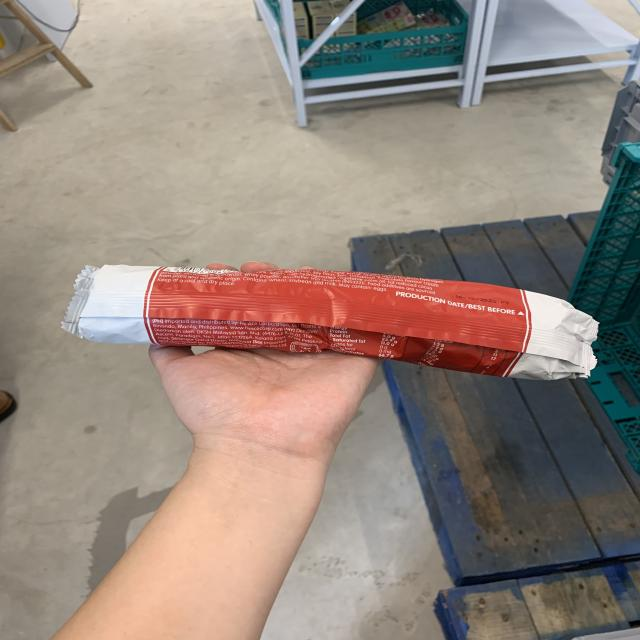object_name: (63, 262, 580, 373)
